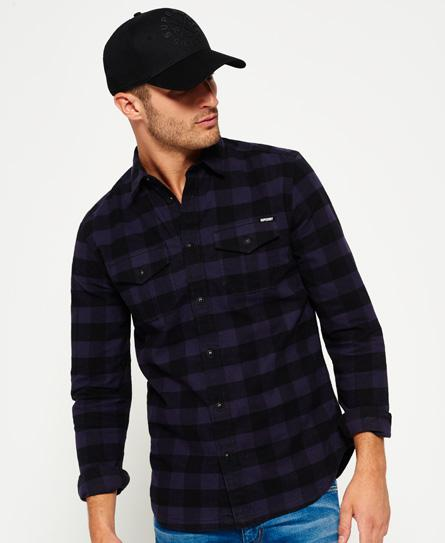teeshirt: (59, 142, 397, 535)
